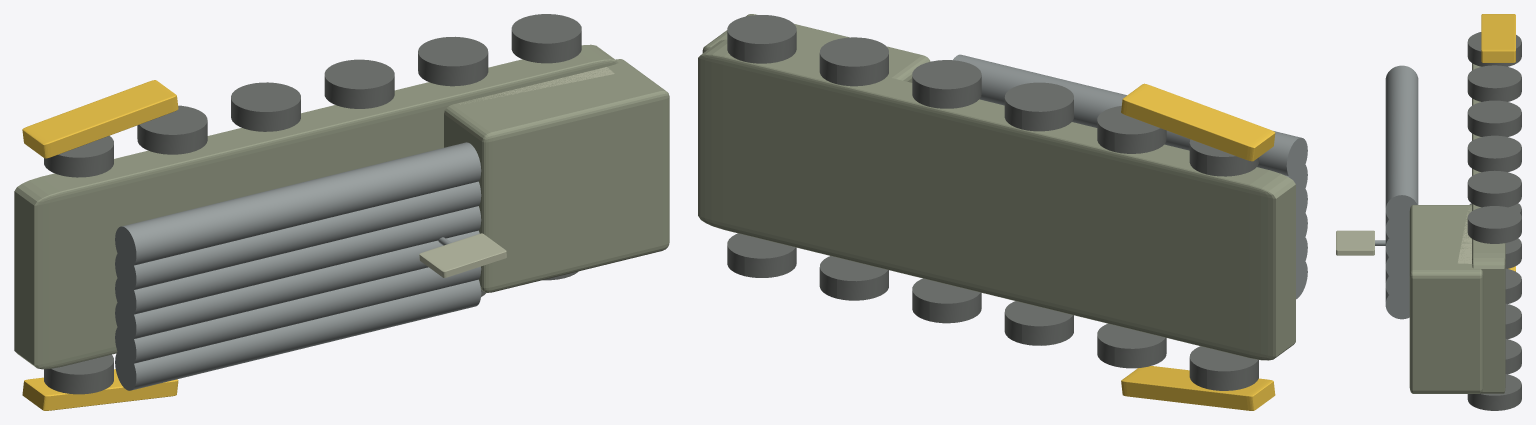
File: v-x02-vanguard-cruise-lod1.glb
3 renders of one model, left to right at view 1: azimuth 30°, elevation 25°; view 2: azimuth 150°, elevation 25°; view 3: azimuth 270°, elevation 25°, orthographic. The views are drawn at different scales.
Visible parts, largest first — view 1: strategic_lower, strategic_cab, cruise_canister_5, cruise_canister_0, cruise_canister_4, cruise_canister_3, cruise_canister_1, cruise_canister_2, strategic_jack_1, strategic_wheel_1_5, strategic_wheel_1_3, strategic_wheel_1_4 (+7 smaller); view 2: strategic_lower, strategic_jack_1, cruise_canister_5, strategic_jack_-1, strategic_wheel_1_2, strategic_wheel_1_4, strategic_wheel_1_3, strategic_wheel_1_5, strategic_wheel_-1_0, strategic_wheel_-1_3, strategic_wheel_-1_2, strategic_wheel_-1_1 (+5 smaller); view 3: strategic_cab, cruise_canister_5, strategic_lower, strategic_wheel_1_5, strategic_wheel_1_1, strategic_wheel_1_2, strategic_wheel_1_3, strategic_wheel_1_4, strategic_jack_1, strategic_wheel_-1_5, cruise_radar_array, strategic_wheel_1_0 (+10 smaller).
Part boxes in pixels (x1,y1,x2,y2): strategic_lower: (14,44,618,369); strategic_cab: (444,59,669,292); cruise_canister_5: (115,142,481,268); cruise_canister_0: (115,279,481,390); cruise_canister_4: (115,181,481,292); cruise_canister_3: (115,206,481,317); cruise_canister_1: (115,266,481,365); cruise_canister_2: (115,230,479,339); strategic_jack_1: (22,80,178,158); strategic_wheel_1_5: (511,14,581,63); strategic_wheel_1_3: (324,59,394,108); strategic_wheel_1_4: (418,36,488,86); strategic_lower: (698,39,1295,360); strategic_jack_1: (1121,83,1275,161); cruise_canister_5: (953,54,1307,178); strategic_jack_-1: (1121,366,1275,410); strategic_wheel_1_2: (1004,82,1073,131); strategic_wheel_1_4: (819,37,888,86); strategic_wheel_1_3: (912,60,981,108); strategic_wheel_1_5: (727,15,796,63); strategic_wheel_-1_0: (1189,346,1258,390); strategic_wheel_-1_3: (912,278,981,323); strategic_wheel_-1_2: (1004,301,1073,345); strategic_wheel_-1_1: (1097,323,1166,368); strategic_cab: (1409,205,1483,393); cruise_canister_5: (1385,65,1418,224); strategic_lower: (1472,63,1505,393); strategic_wheel_1_5: (1467,206,1521,243); strategic_wheel_1_1: (1467,65,1521,101); strategic_wheel_1_2: (1467,100,1521,136); strategic_wheel_1_3: (1467,135,1521,172); strategic_wheel_1_4: (1467,170,1521,207); strategic_jack_1: (1481,14,1515,62); strategic_wheel_-1_5: (1467,374,1521,410); cruise_radar_array: (1336,230,1374,255); strategic_wheel_1_0: (1467,32,1521,66).
Size of what is drawn, in the model's own units: 10.41 by 5.01 by 3.65.
